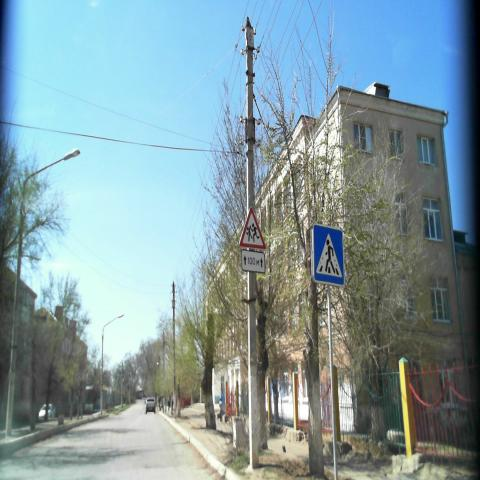1_23: (238, 208, 267, 250)
